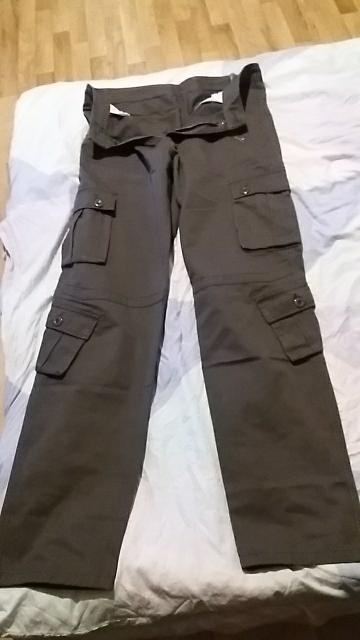pants: (1, 68, 360, 553)
